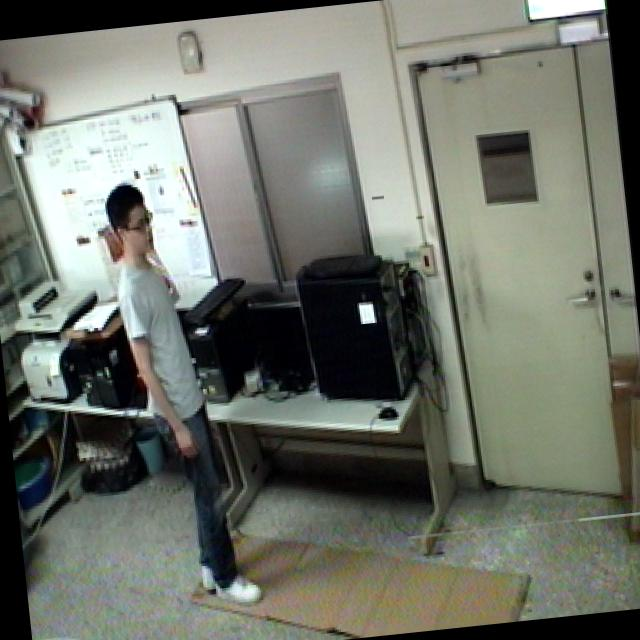stand: (96, 163, 274, 628)
